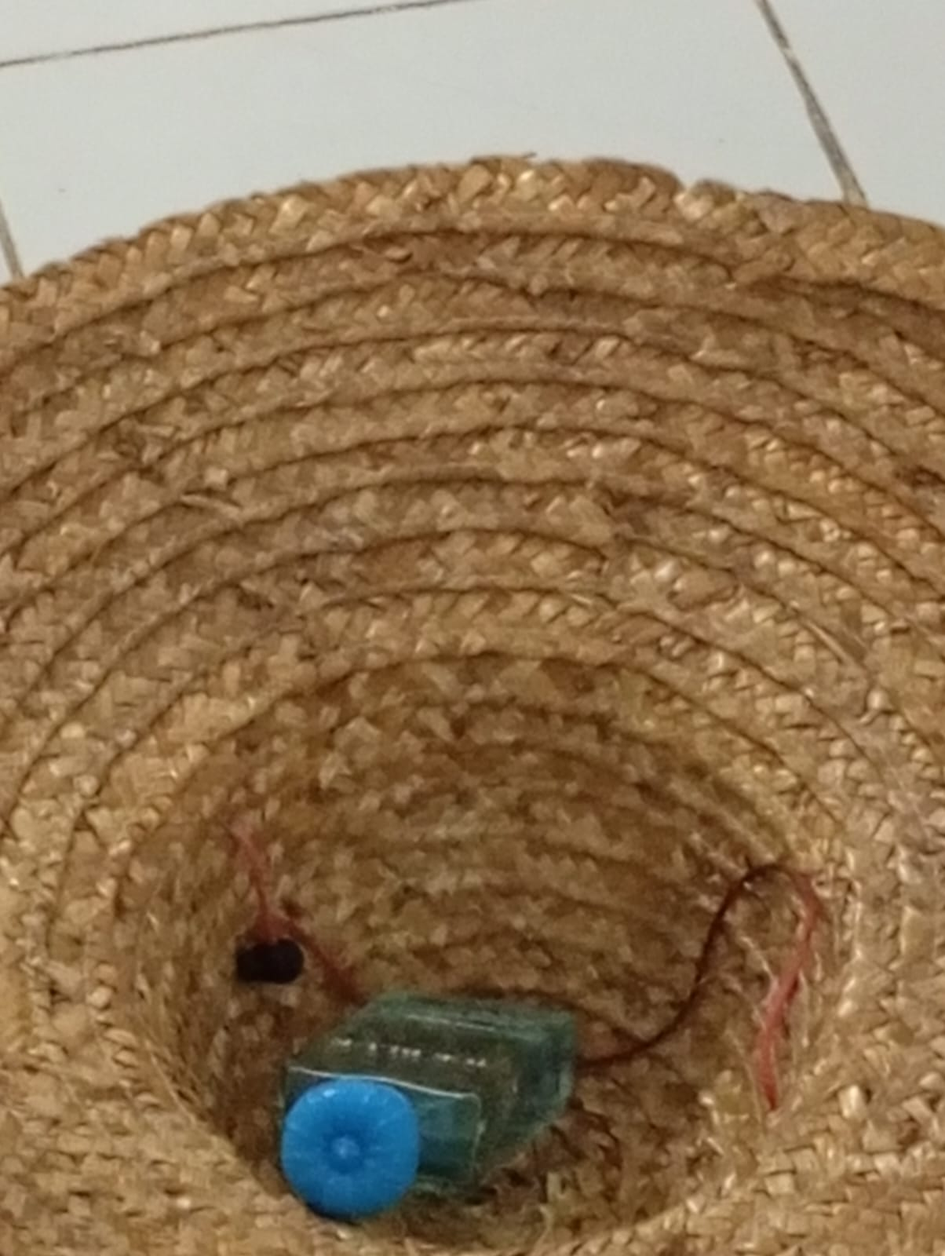Parfum: (256, 968, 589, 1228)
